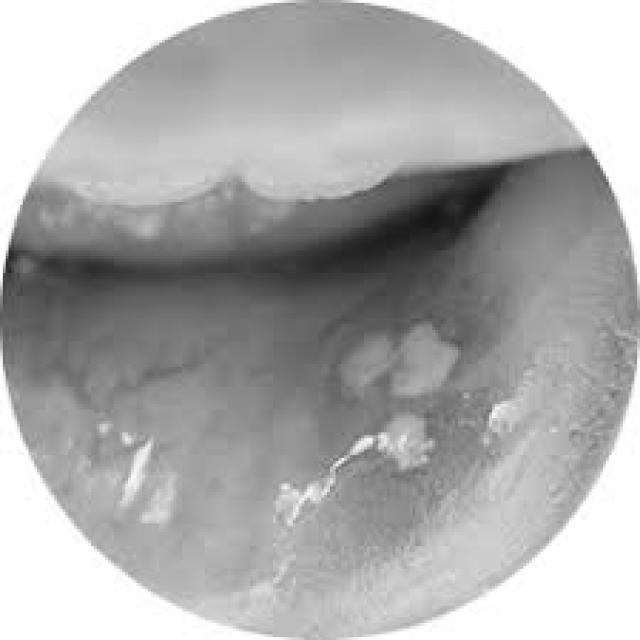processing_area: (0, 163, 632, 637)
ulcer-detection: (325, 284, 486, 513)
